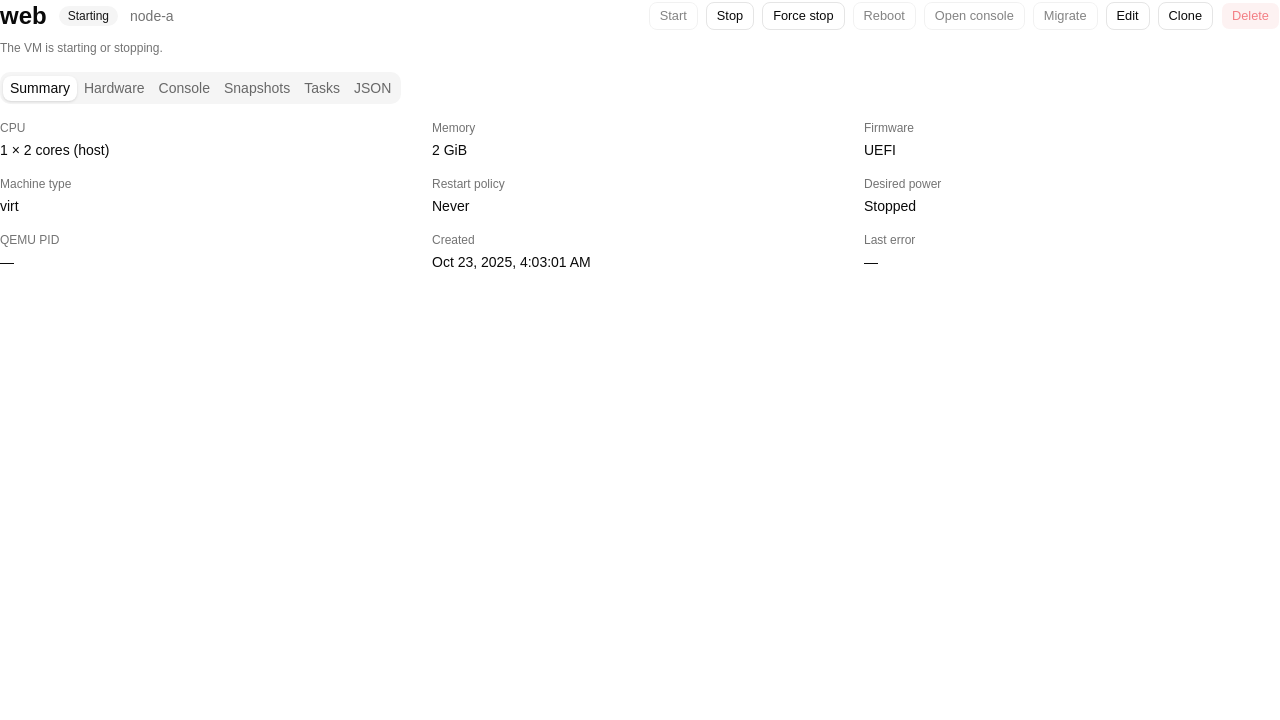
blocks cloning while the VM is starting
The width and height of the screenshot is (1280, 720).
Click the button "Clone" at (1185, 16), box x1=1158 y1=2 x2=1213 y2=30
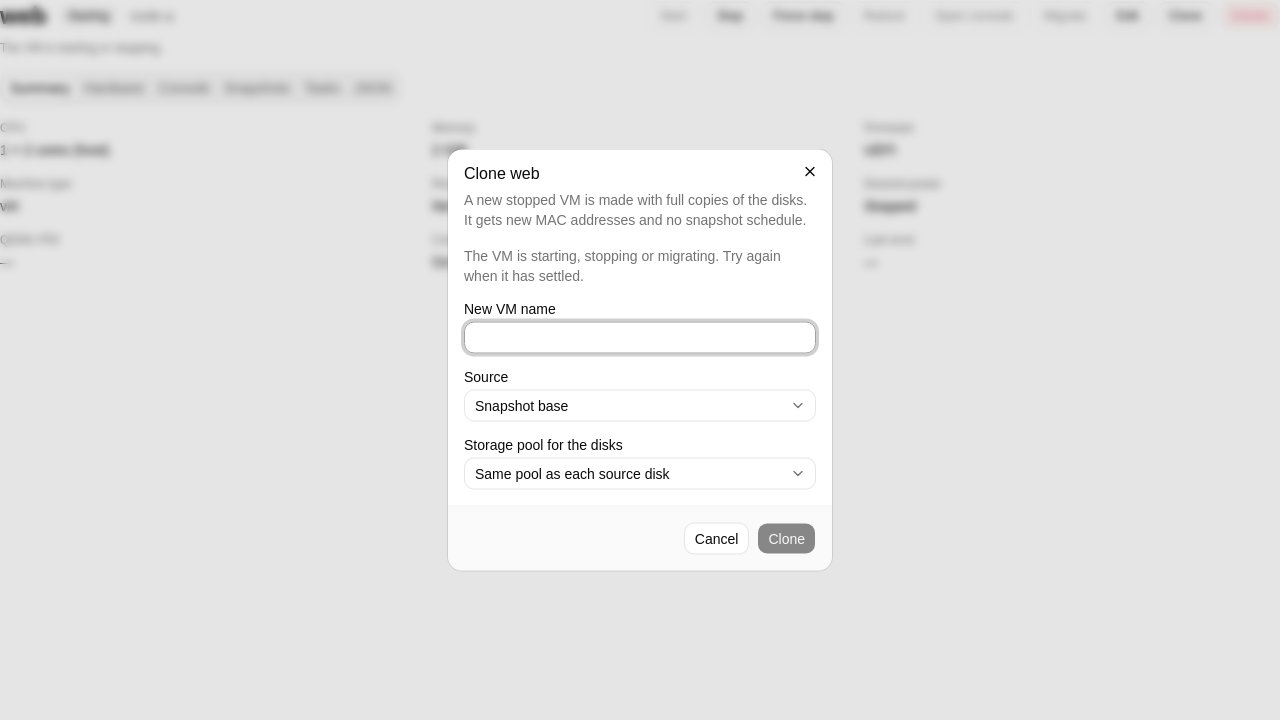
Check: the text "The VM is starting, stopping or migrating. Try again when it has settled." is shown, box x1=464 y1=246 x2=816 y2=286
Check: the button "Clone" is disabled, box x1=757 y1=522 x2=816 y2=554
